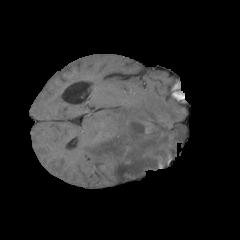glioma: (84, 91, 188, 180)
